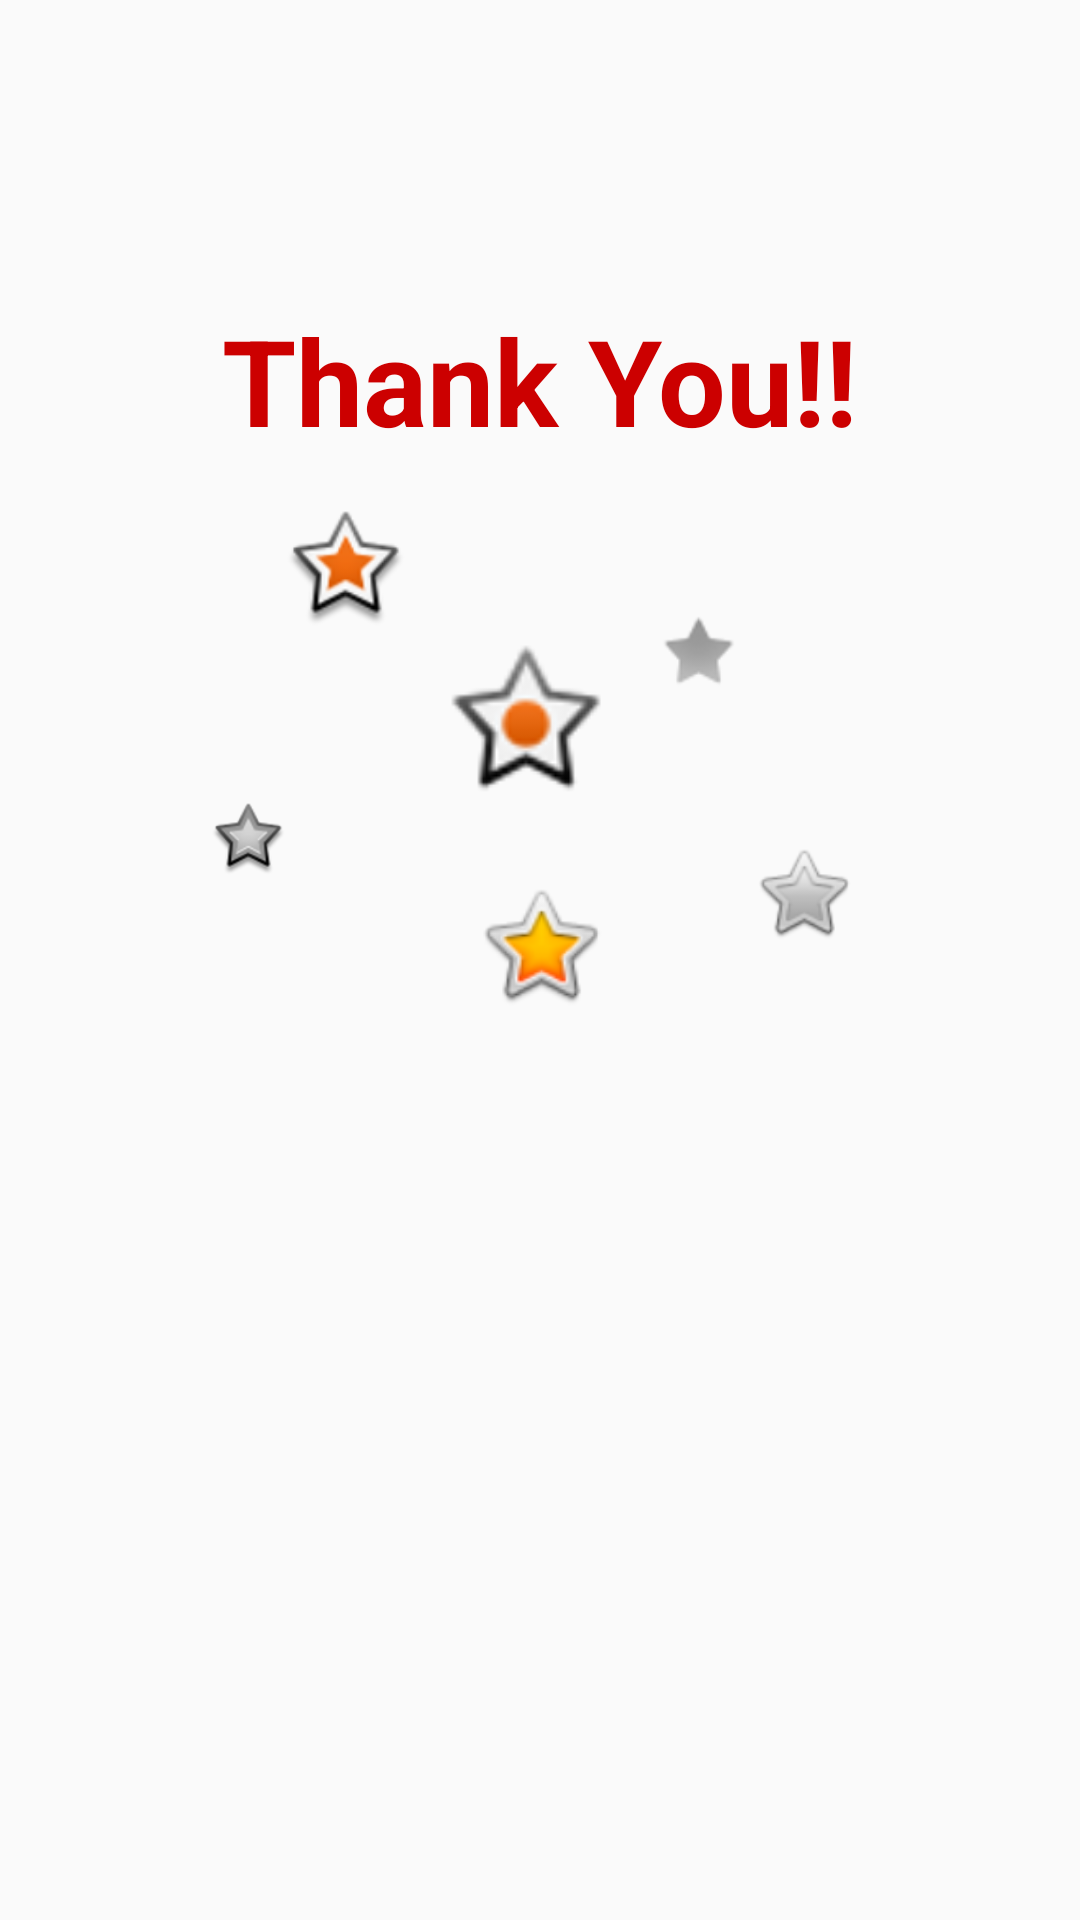

Screen size 1080w x 1920h. Icon name, then its box in pixels as (x1, y1, x2, y2):
star off: (665, 618, 732, 683), (215, 803, 282, 871), (761, 851, 848, 936)
star on: (293, 512, 399, 620), (452, 647, 600, 789), (485, 891, 598, 1001)
